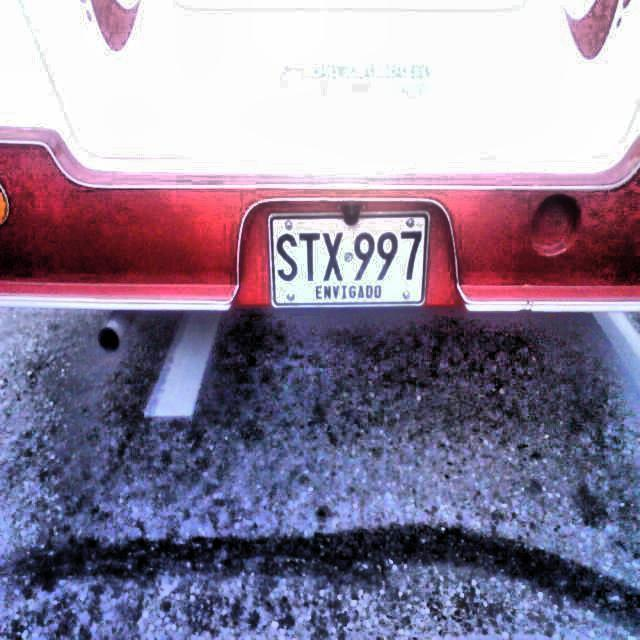plate: (271, 214, 427, 306)
